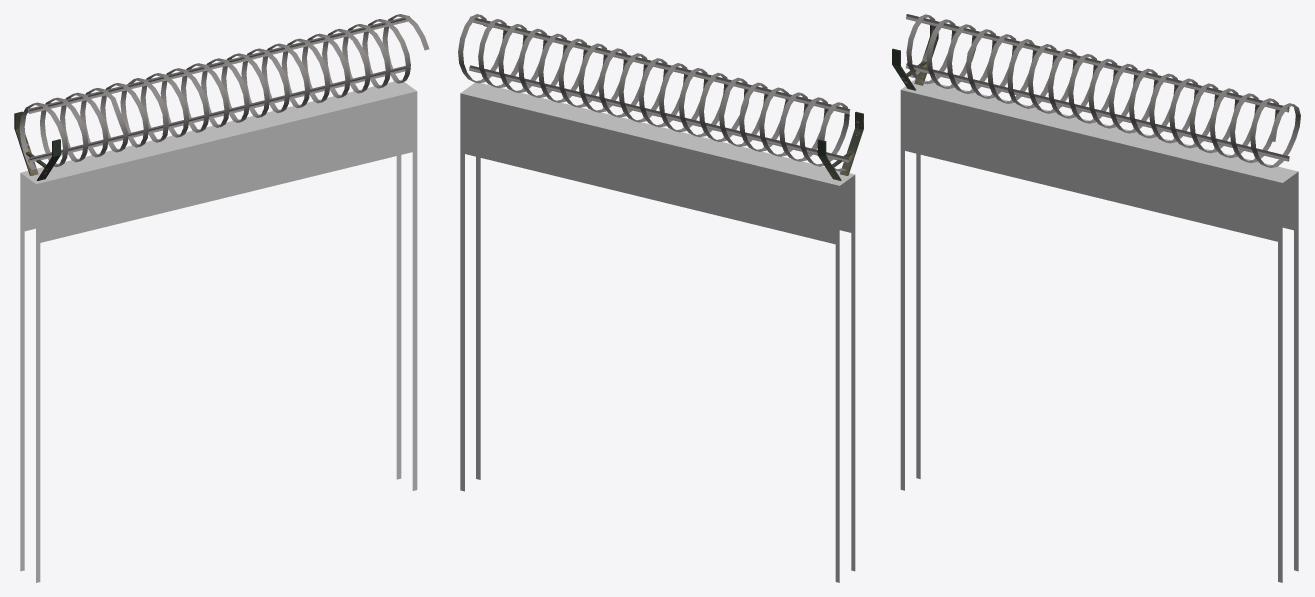
File: SM_MainGate_Wall_Perimeter_Gate.fbx
3 views of the same model, side by side, from view 1: azimuth 30°, elevation 25°; view 2: azimuth 150°, elevation 25°; view 3: azimuth 330°, elevation 25° (orthographic).
Visible parts, largest first — view 1: SM_MainGate_Wall_Perimeter_Gate; view 2: SM_MainGate_Wall_Perimeter_Gate; view 3: SM_MainGate_Wall_Perimeter_Gate.
Boxes of the visible parts, bbox=[...] form: SM_MainGate_Wall_Perimeter_Gate: bbox=[14, 14, 429, 582]; SM_MainGate_Wall_Perimeter_Gate: bbox=[458, 14, 863, 582]; SM_MainGate_Wall_Perimeter_Gate: bbox=[892, 14, 1300, 582].
Bounding box in the file's own units: 705 × 123 × 824.
